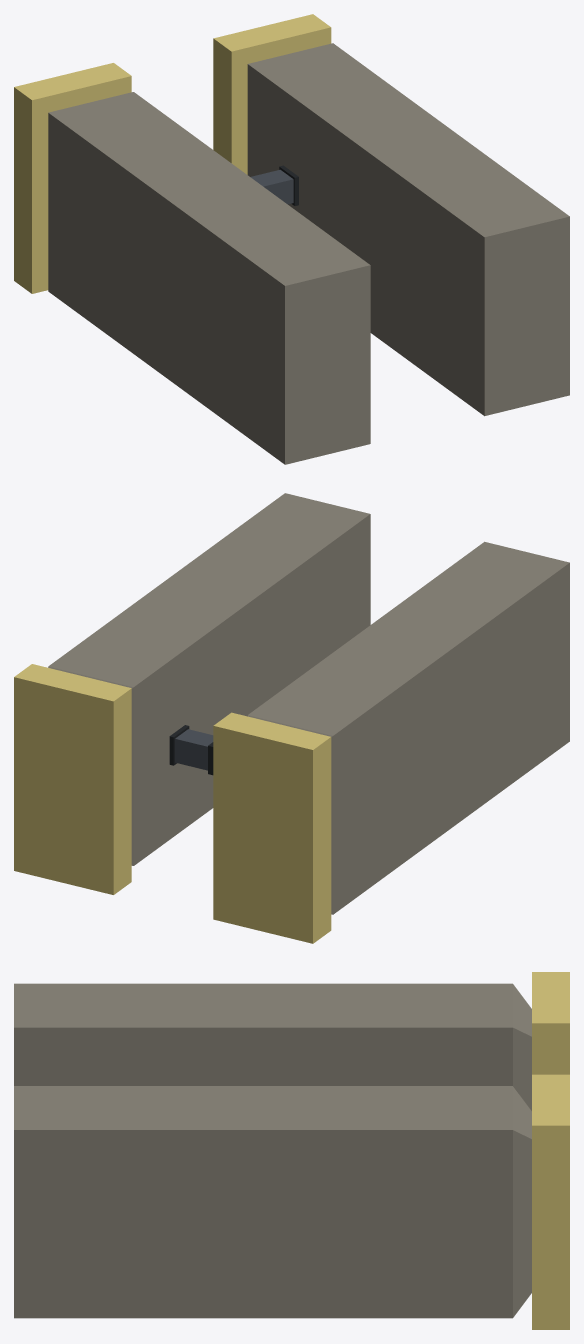
The model's file is gate.glb.
3 renders of one model, top to bottom at view 1: azimuth 30°, elevation 25°; view 2: azimuth 150°, elevation 25°; view 3: azimuth 270°, elevation 25°, orthographic. The views are drawn at different scales.
Parts seen in each view (by area): view 1: Body; view 2: Body; view 3: Body.
Boxes of the visible parts, left/top/right/bottom form: Body: left=14, top=14, right=569, bottom=464; Body: left=14, top=493, right=569, bottom=943; Body: left=14, top=972, right=569, bottom=1329.
Size of the model in its own units: 2.1 by 1.3 by 3.21.
